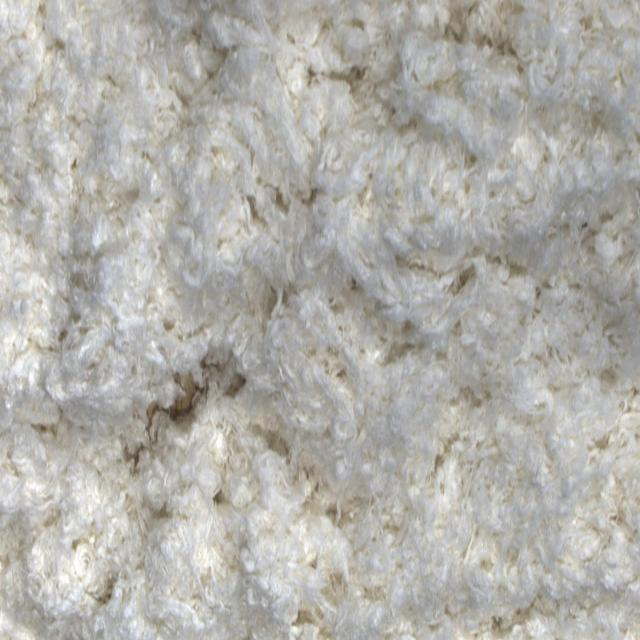dust: (162, 386, 209, 438)
